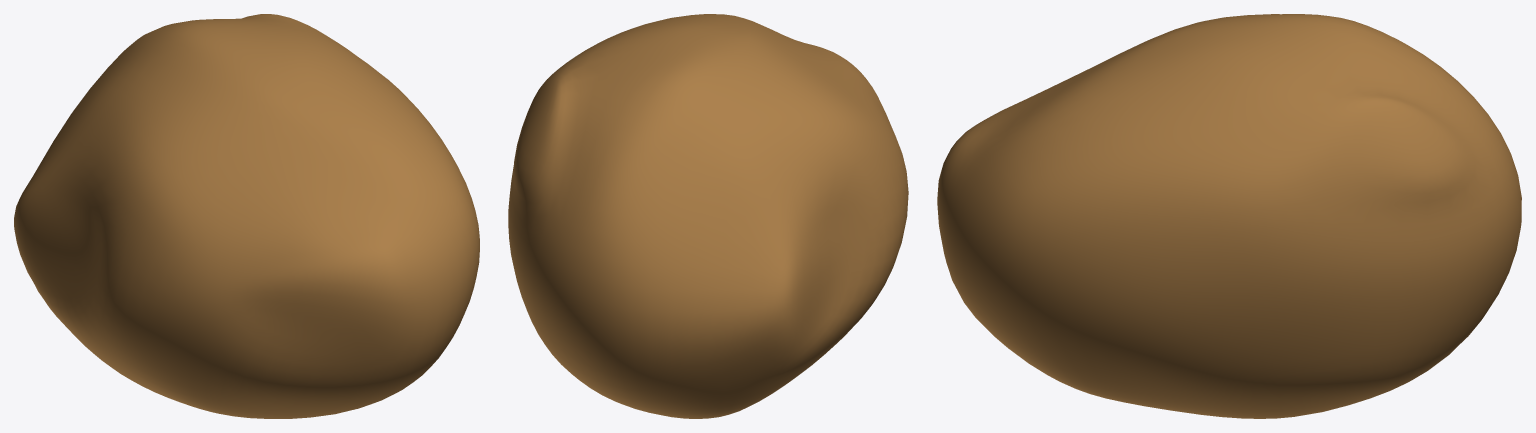
The model's file is Potato.glb.
The picture shows the model from 3 angles, left to right: view 1: azimuth 30°, elevation 25°; view 2: azimuth 150°, elevation 25°; view 3: azimuth 270°, elevation 25°; orthographic projection. The views are drawn at different scales.
Parts seen in each view (by area): view 1: Potato; view 2: Potato; view 3: Potato.
Part boxes in pixels (<box>): Potato: <box>14,14,479,418</box>; Potato: <box>508,14,908,418</box>; Potato: <box>937,14,1521,418</box>.
Bounding box in the file's own units: 0.7092 × 0.7004 × 0.9918.
